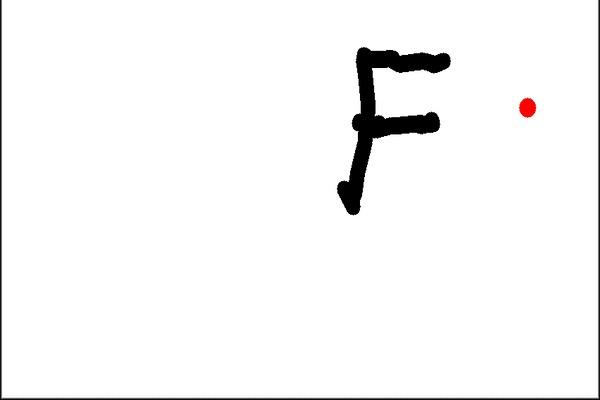F: (332, 43, 452, 219)
